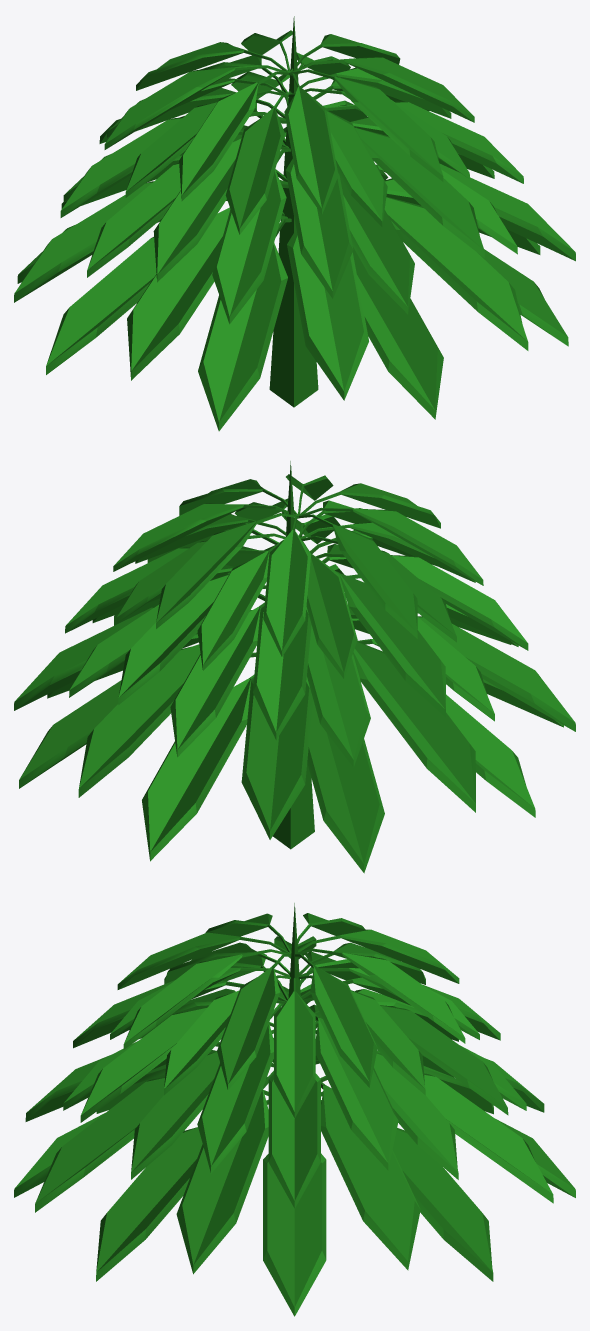
File: sage.glb
3 views of the same model, one above another, from view 1: azimuth 30°, elevation 25°; view 2: azimuth 150°, elevation 25°; view 3: azimuth 270°, elevation 25° (orthographic).
Visible parts, largest first — view 1: Cone001; view 2: Cone001; view 3: Cone001.
Part boxes in pixels (x1=…): Cone001: x1=14, y1=16, x2=575, y2=431; Cone001: x1=14, y1=461, x2=575, y2=873; Cone001: x1=14, y1=903, x2=575, y2=1316.
Size of the model in its own units: 32.99 by 24.35 by 32.99.
1 material, 1 textured.
